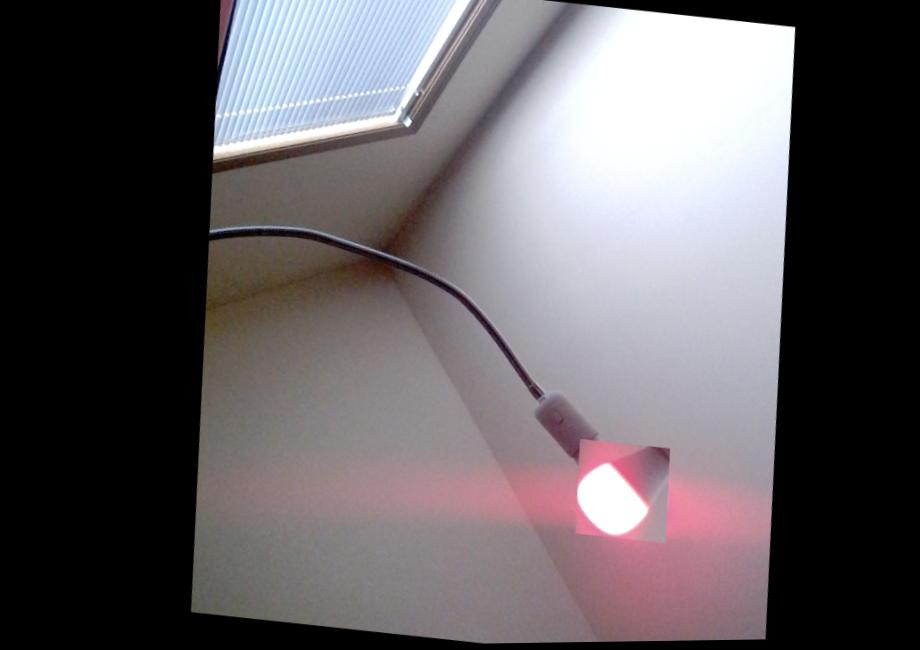TubeLight: (559, 439, 669, 545)
